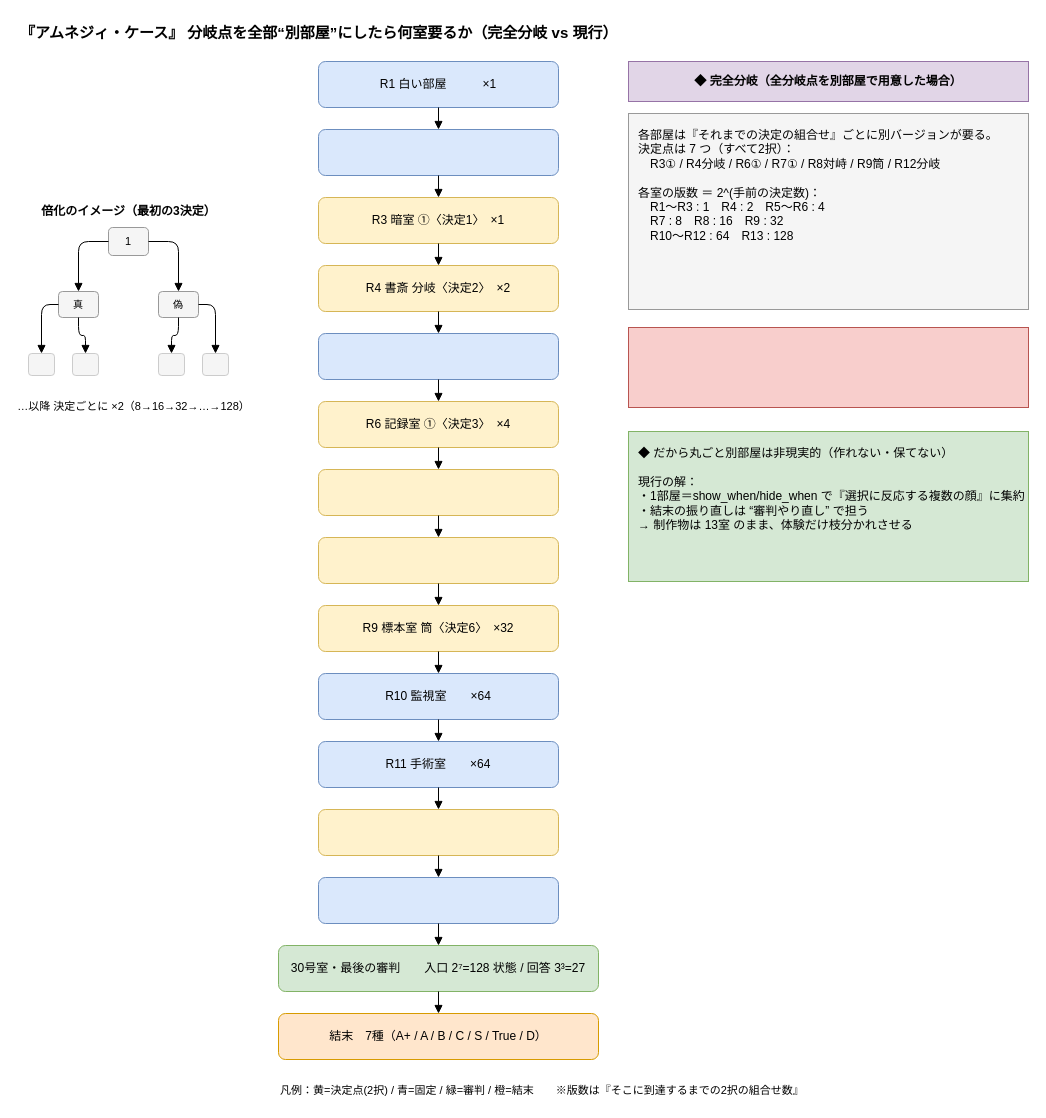
This 1046x1118 diagram has some shape labels left out. The box of each missing label's shape, as (x1, y1, x2, y2) in pixels:
R12 証拠保管室 分岐〈決定7〉 ×64: (318, 808, 558, 856)
R13 最後の扉 ×128: (318, 876, 558, 924)
R2 準備室 ×1: (318, 128, 558, 176)
R5 診察室 ×4: (318, 332, 558, 380)
R7 廊下 ①〈決定4〉 ×8: (318, 468, 558, 516)
R8 鏡の間 対峙〈決定5〉 ×16: (318, 536, 558, 584)
合計 ≈ 389 室 （現行 13 室 の 約30倍） 末端の物語分岐 ＝ 2⁷ ＝ 128 通り 審判の回答は 3³=27 → 7結末に収束: (628, 326, 1028, 408)
